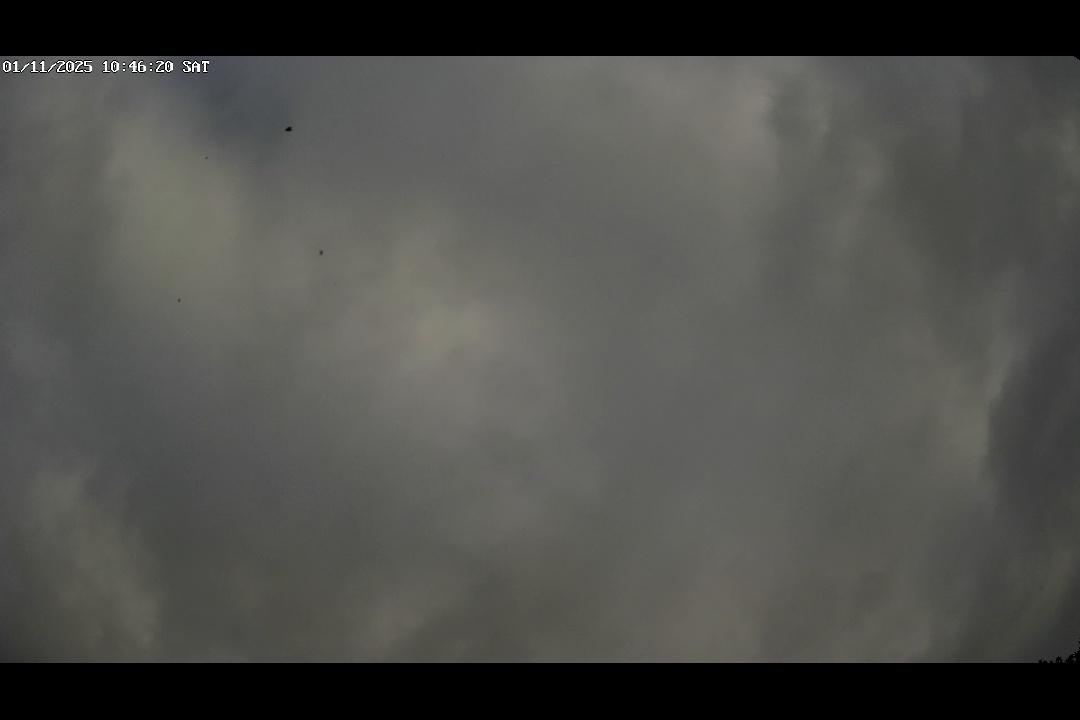WildLife: (307, 245, 336, 261), (273, 122, 303, 136), (173, 295, 186, 306), (200, 153, 215, 162)
